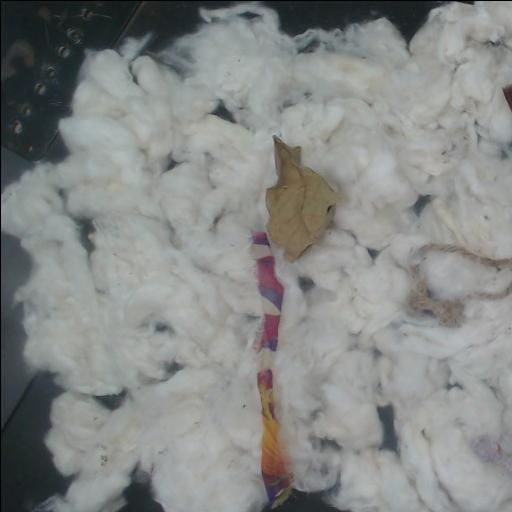cloth: (252, 232, 291, 506), (266, 137, 337, 261)
conveyor belt: (1, 1, 234, 191), (1, 233, 68, 512), (262, 1, 441, 41), (119, 470, 162, 512), (263, 490, 340, 512), (378, 406, 396, 449), (77, 218, 93, 248), (97, 392, 123, 408), (213, 104, 232, 119)
cotton: (1, 1, 512, 512)
jute: (406, 266, 464, 328), (421, 244, 512, 275), (465, 275, 512, 300)
